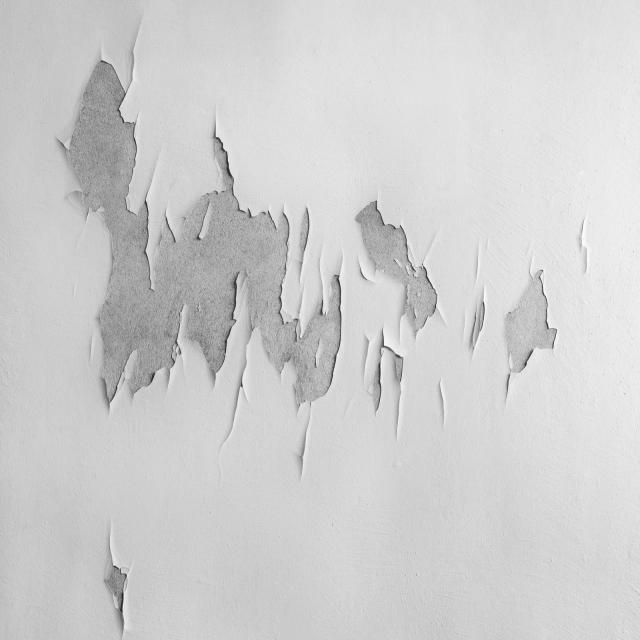peeling paint: (52, 0, 596, 486), (90, 500, 142, 640)
